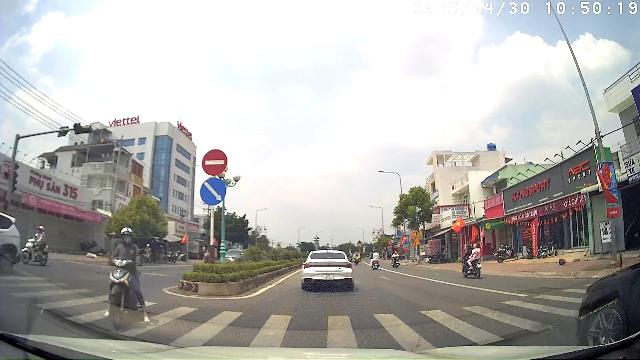102-cam-di-nguoc-chieu: (201, 148, 227, 176)
302a-huong-phai-di-vong-chuong-ngai-vat-1: (199, 177, 226, 206)
